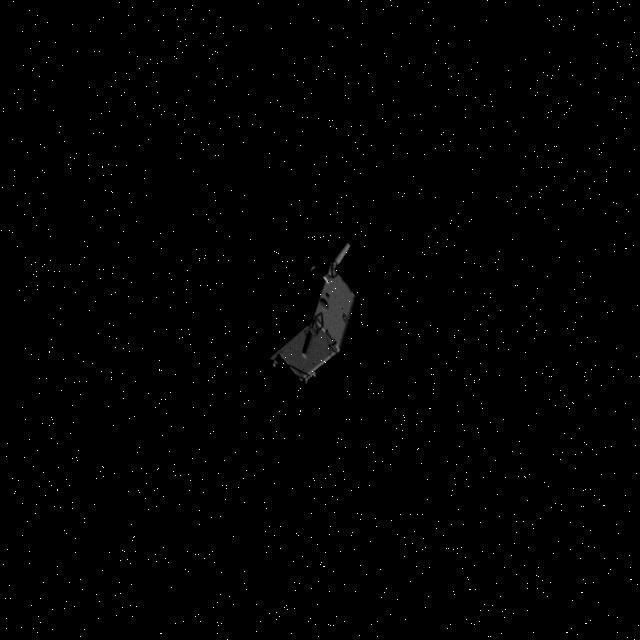satellite: (262, 242, 372, 394)
